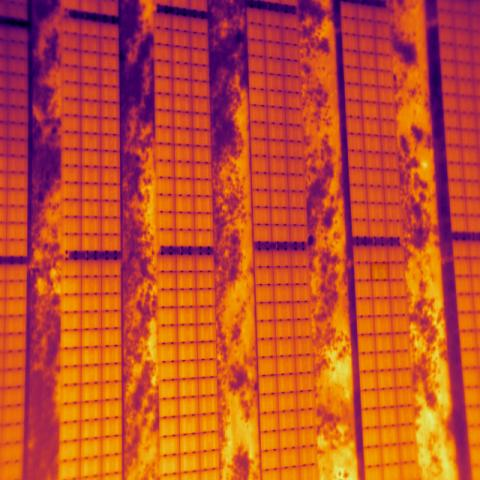fault: (370, 262, 389, 281)
